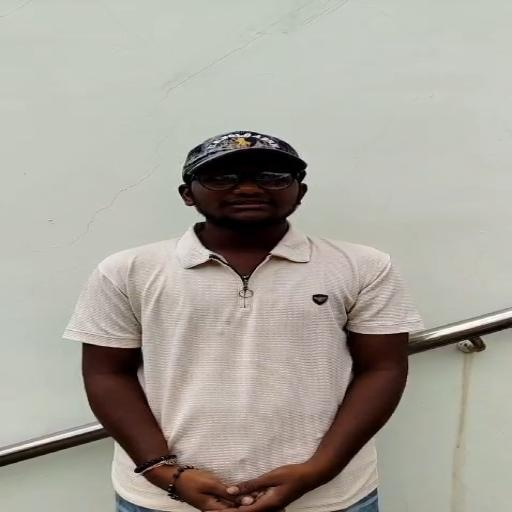employee-detectio-system: (59, 121, 419, 389)
